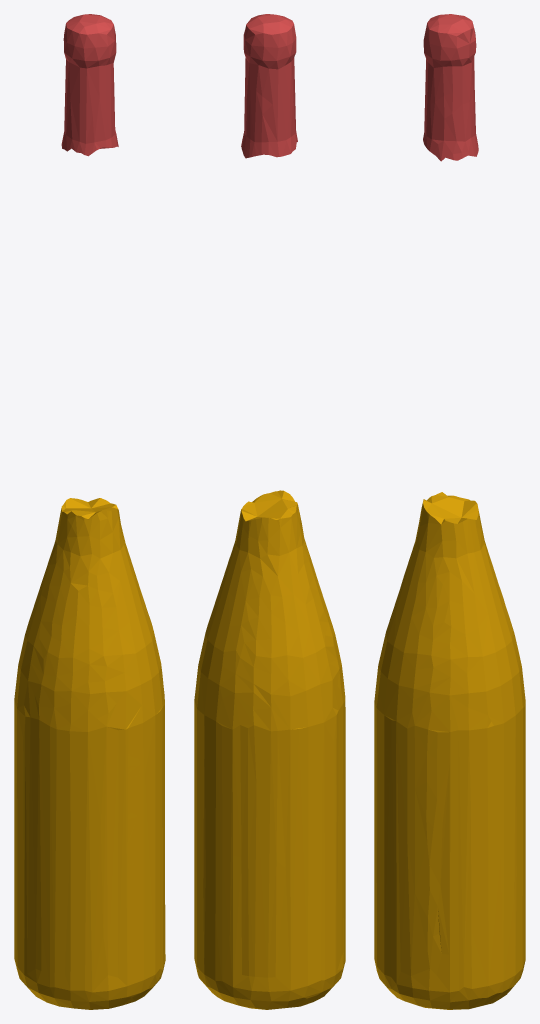
The model's file is mode_1_2pcs_transformed.glb.
3 renders of one model, left to right at view 1: azimuth 30°, elevation 25°; view 2: azimuth 150°, elevation 25°; view 3: azimuth 270°, elevation 25°, orthographic.
Visible parts, largest first — view 1: piece_0.obj, piece_1.obj; view 2: piece_0.obj, piece_1.obj; view 3: piece_0.obj, piece_1.obj.
Part boxes in pixels (x1,y1,x2,y2): piece_0.obj: (14, 498, 165, 1009); piece_1.obj: (61, 14, 118, 156); piece_0.obj: (194, 490, 345, 1009); piece_1.obj: (241, 14, 297, 158); piece_0.obj: (374, 492, 525, 1009); piece_1.obj: (423, 14, 478, 161).
Bounding box in the file's own units: 0.2268 × 1.6 × 0.227.
